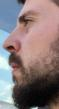without_mask: (2, 1, 59, 109)
